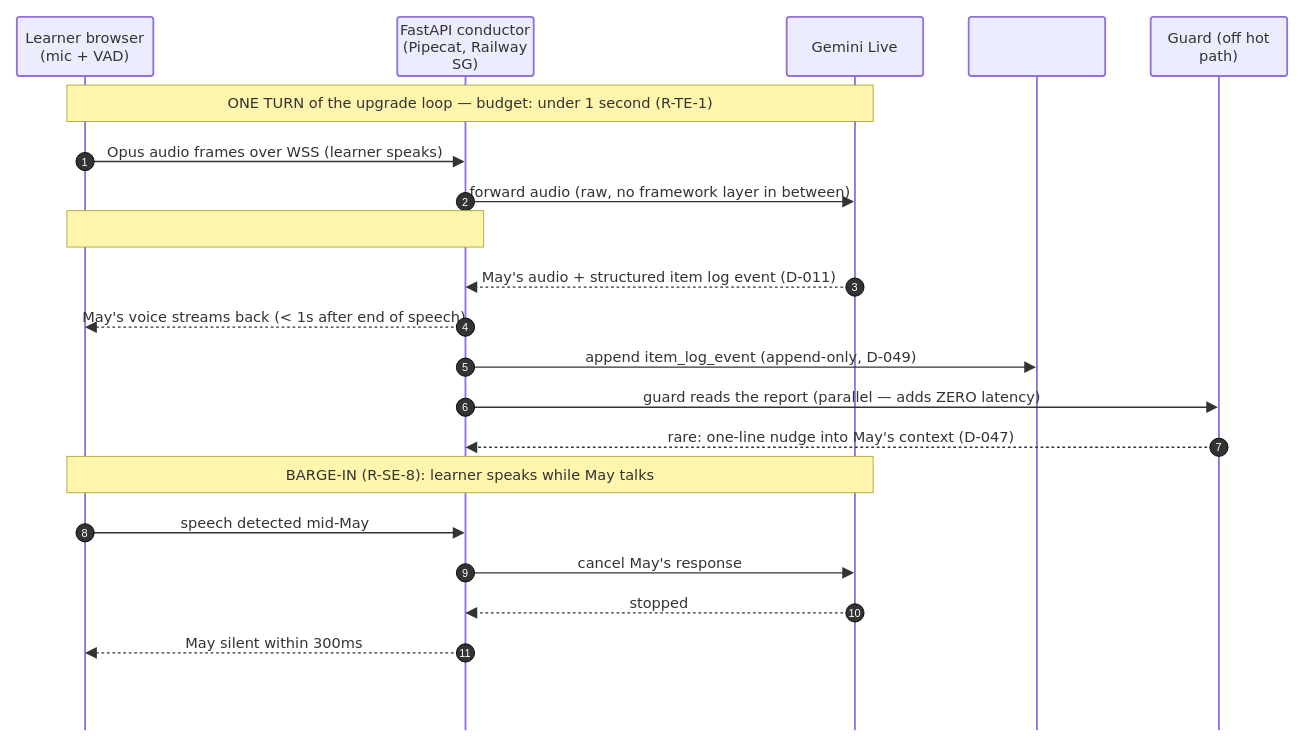
This 1303x746 diagram has some shape labels left out. Here are the shapes that lost their labels. From the top down, the centre of each, then its label:
At pixel 275 228: "client VAD detects end of speech (R-TE-3)".
At pixel 1036 373: "Postgres".
